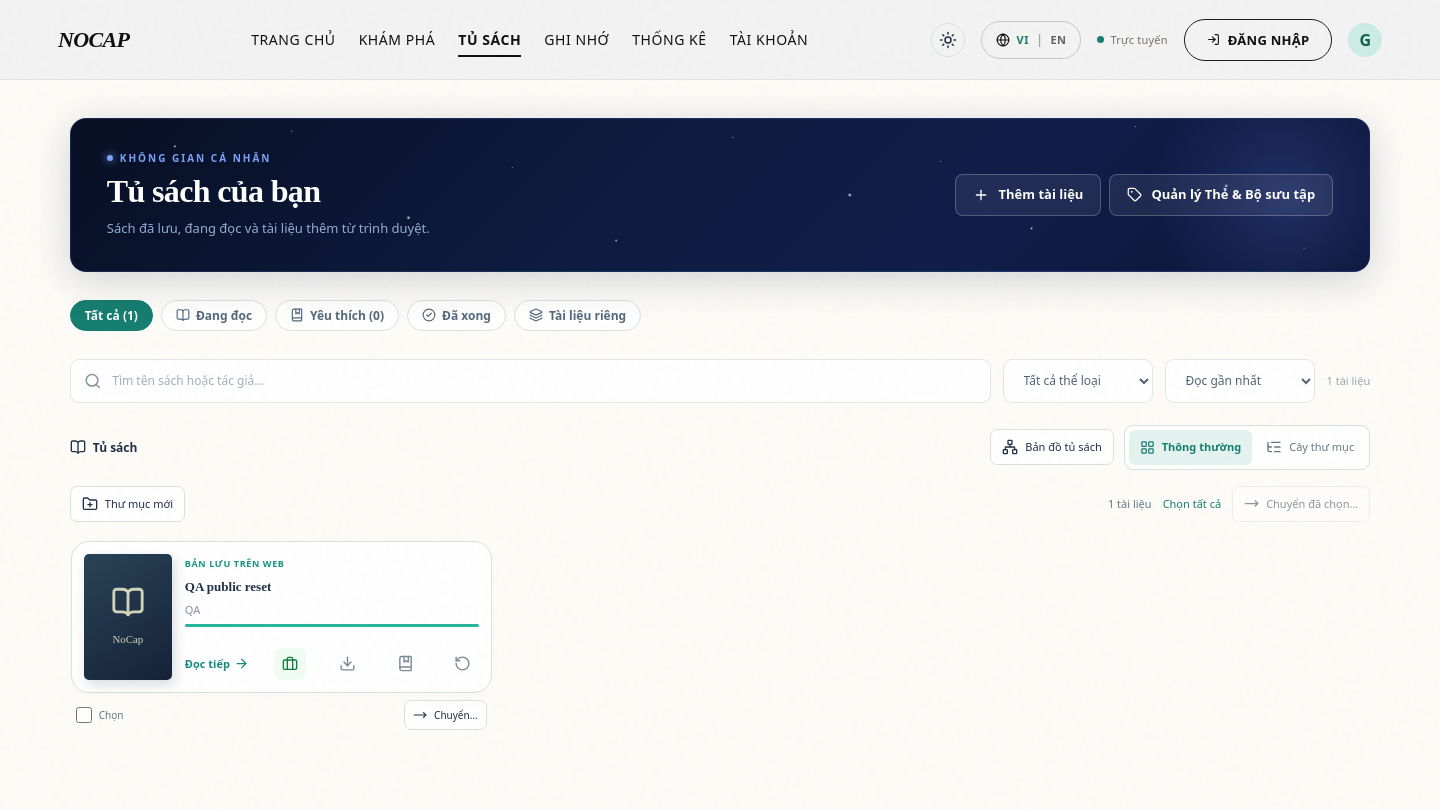
Scenario: removing public books from the personal library › keeps the shelf entry and resume checkpoint if the reset fails
Click the button named "Gỡ khỏi tủ sách: QA public reset" at [462, 664], box [446,648,478,680]
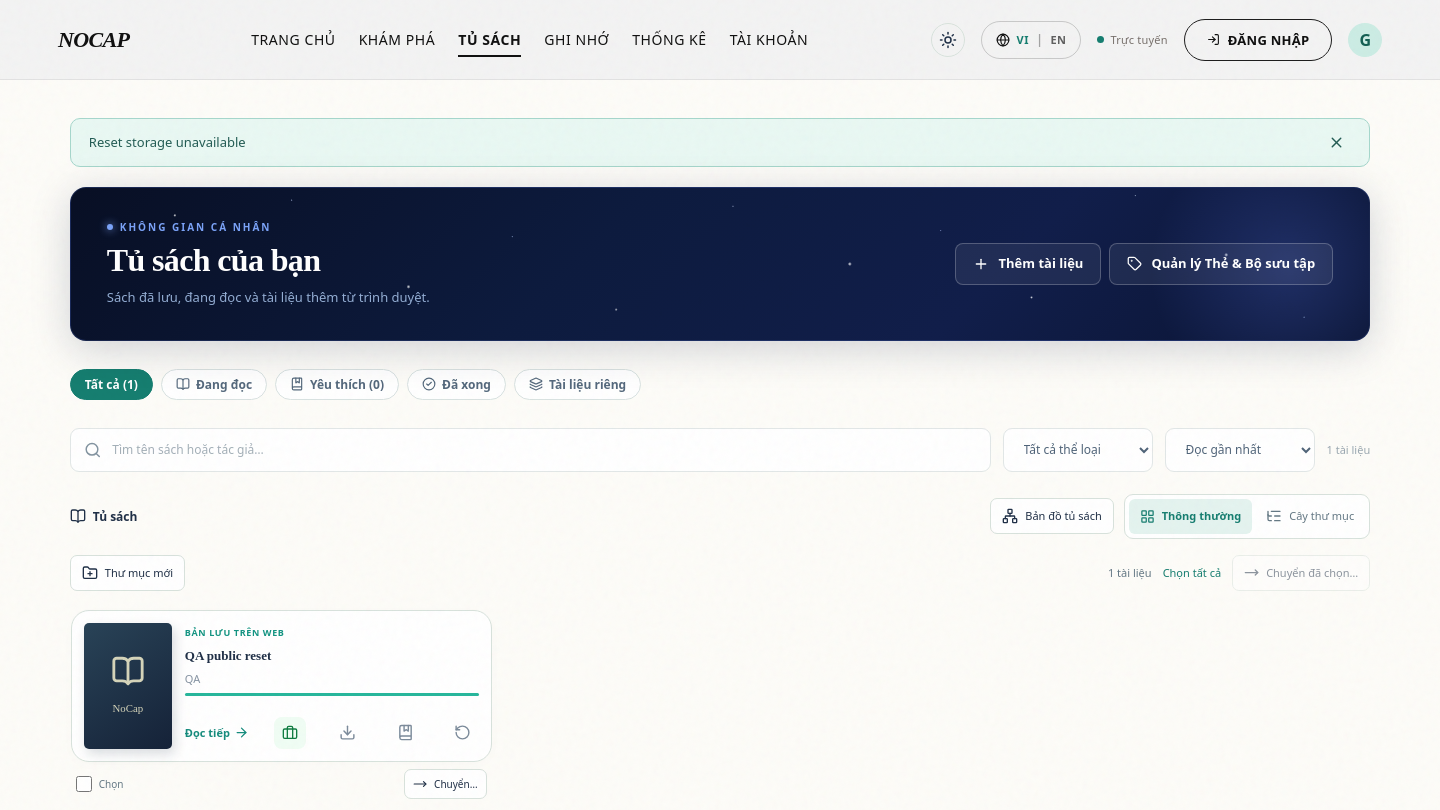
Check: the button "QA public reset" is shown, box [185,647,479,664]
Check: the text "Reset storage unavailable" is shown, box [89,133,246,151]
